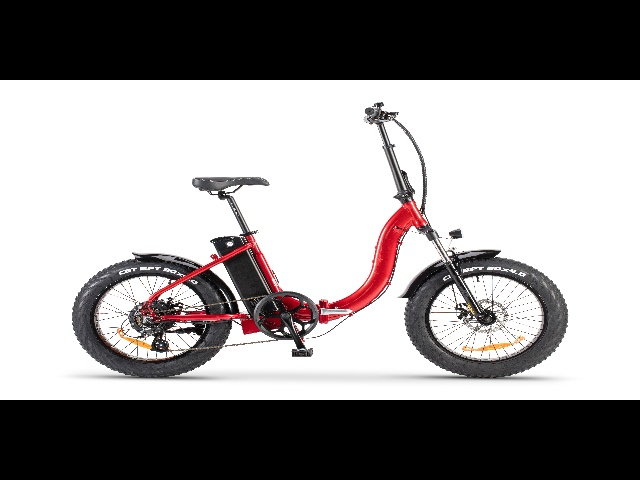bike: (67, 97, 584, 389)
